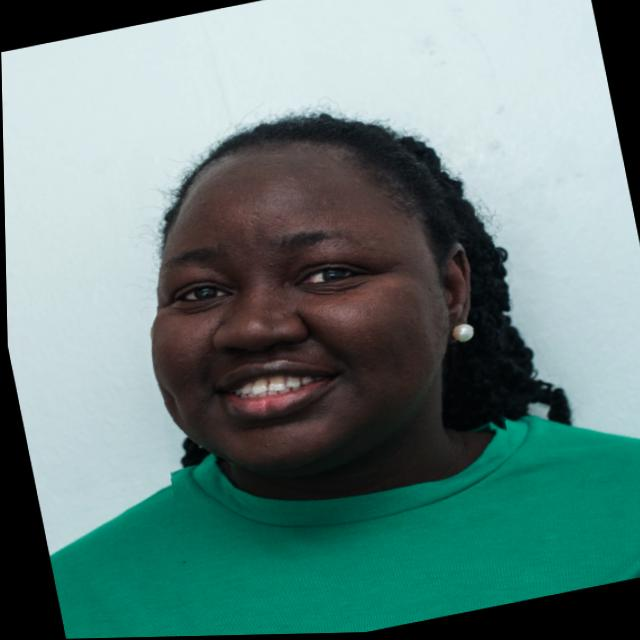happy: (106, 81, 522, 517)
